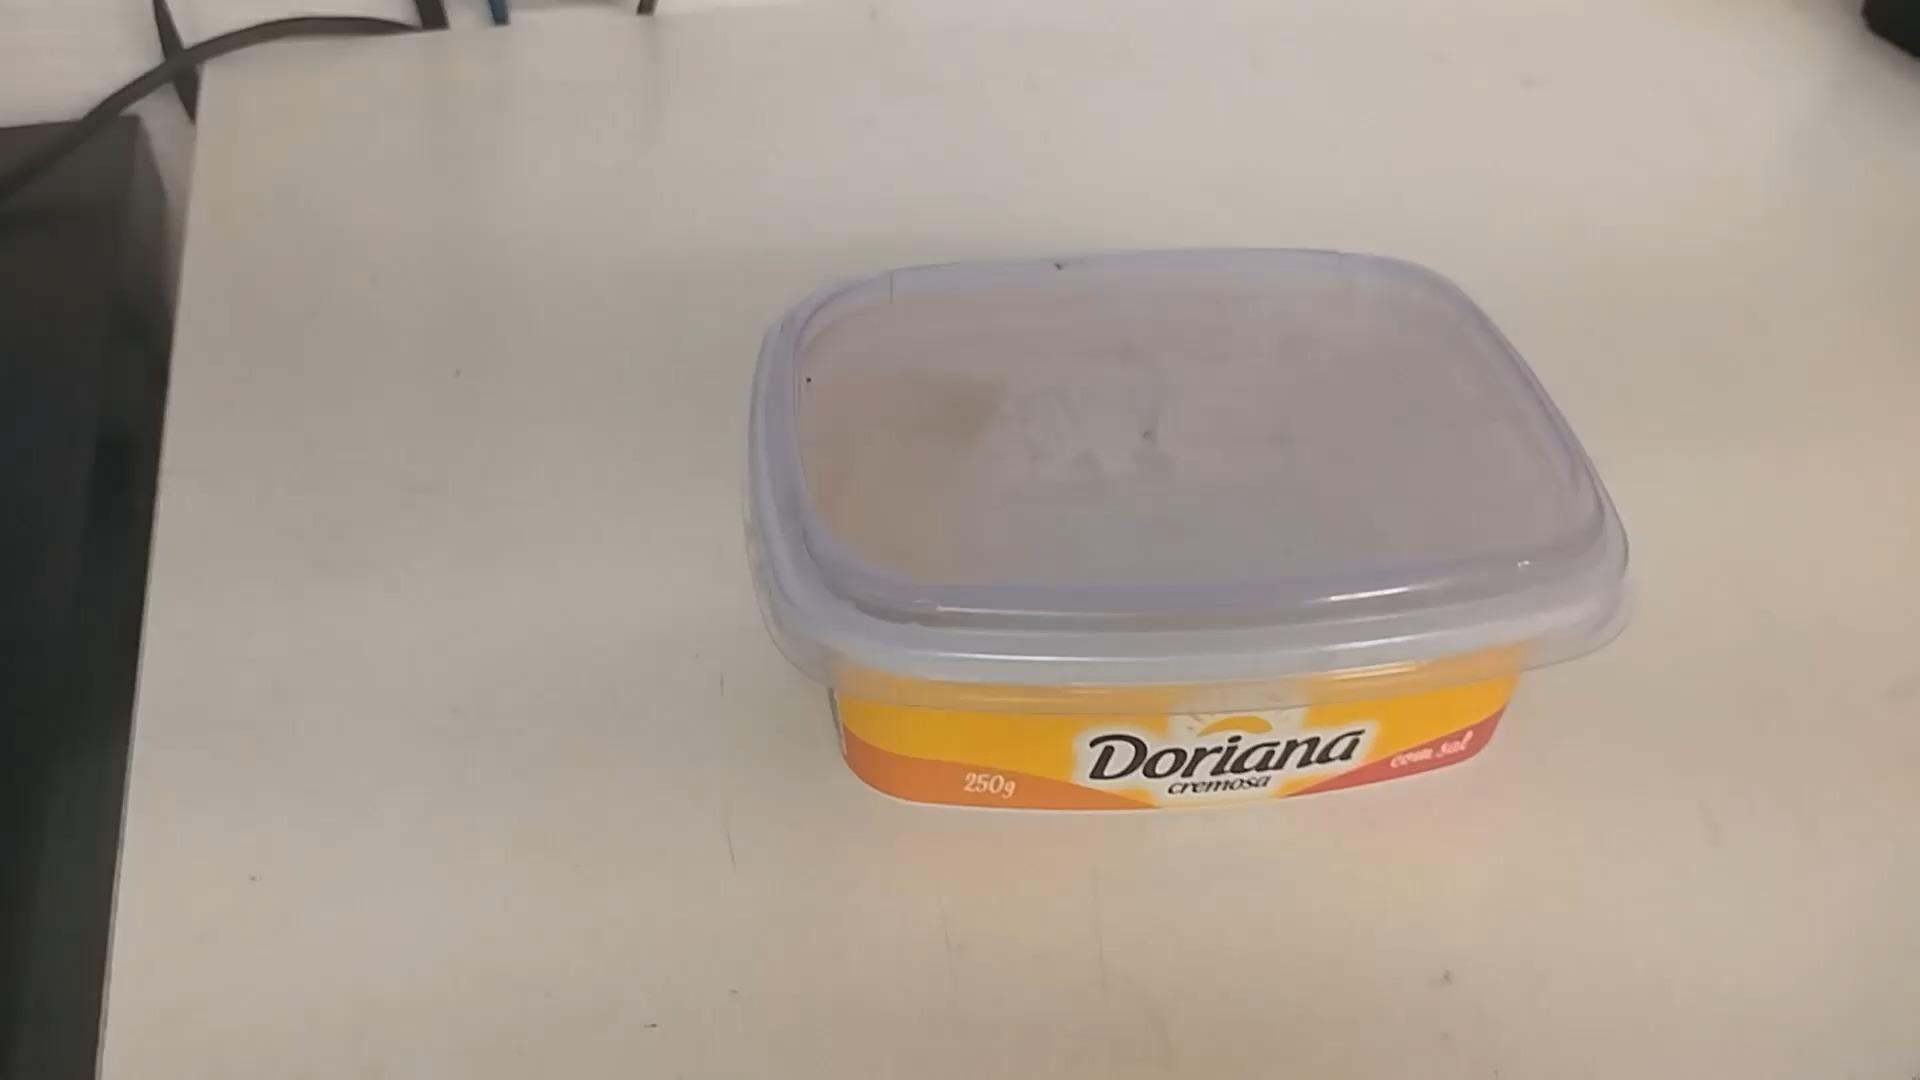butter: (750, 247, 1642, 806)
